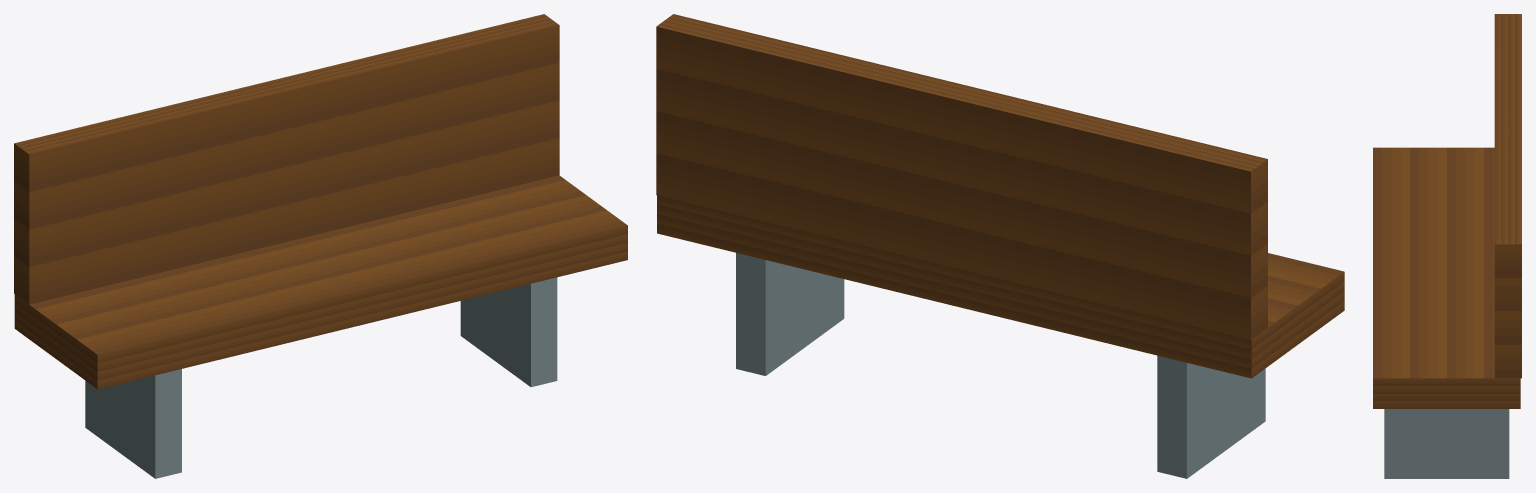
The model's file is bench.glb.
3 views of the same model, side by side, from view 1: azimuth 30°, elevation 25°; view 2: azimuth 150°, elevation 25°; view 3: azimuth 270°, elevation 25° (orthographic). The views are drawn at different scales.
Visible parts, largest first — view 1: Back, Seat, LegL, LegR; view 2: Back, Seat, LegL, LegR; view 3: Seat, Back, LegR.
Boxes of the visible parts, <box> form: Back: <box>14,14,559,304</box>; Seat: <box>14,175,627,389</box>; LegL: <box>85,369,181,478</box>; LegR: <box>460,277,557,387</box>; Back: <box>656,14,1267,339</box>; Seat: <box>657,195,1344,378</box>; LegL: <box>1157,355,1265,478</box>; LegR: <box>736,253,844,375</box>; Seat: <box>1373,147,1520,408</box>; Back: <box>1494,14,1521,378</box>; LegR: <box>1384,409,1509,478</box>.
Bounding box in the file's own units: 2.4 × 1.27 × 0.655.
Materials: 2 (1 with a texture image).
